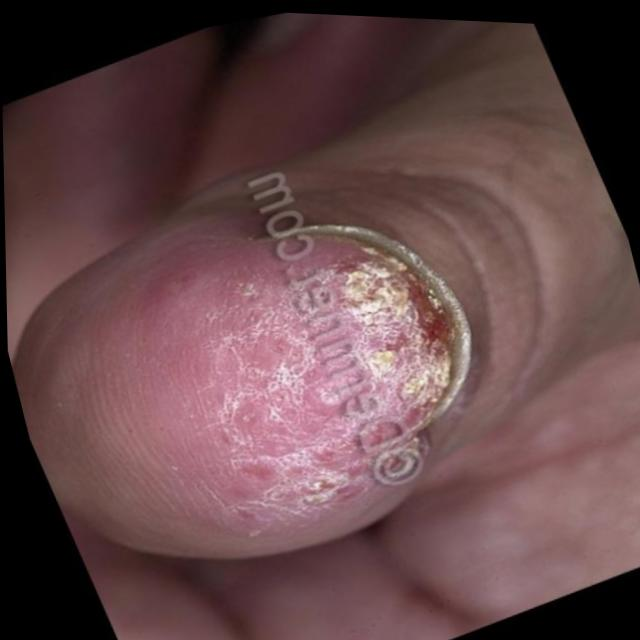Eczema: (134, 195, 521, 559)
